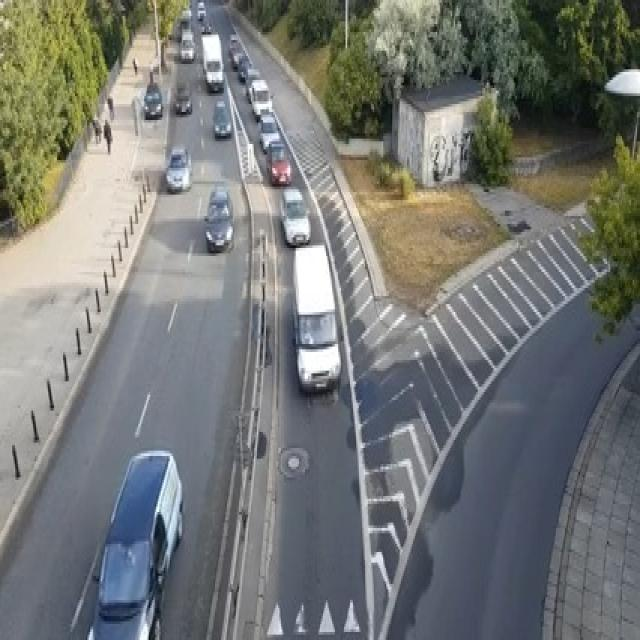car: (86, 448, 183, 637), (291, 243, 341, 392), (203, 184, 233, 253), (279, 187, 311, 245), (165, 147, 192, 192), (264, 141, 292, 184), (250, 77, 274, 120), (258, 112, 280, 152), (143, 80, 162, 117), (212, 99, 231, 136), (173, 80, 192, 115), (245, 67, 260, 101), (228, 40, 244, 69), (179, 35, 194, 61), (238, 56, 252, 80), (197, 0, 206, 21), (200, 19, 210, 32), (230, 32, 237, 40)
